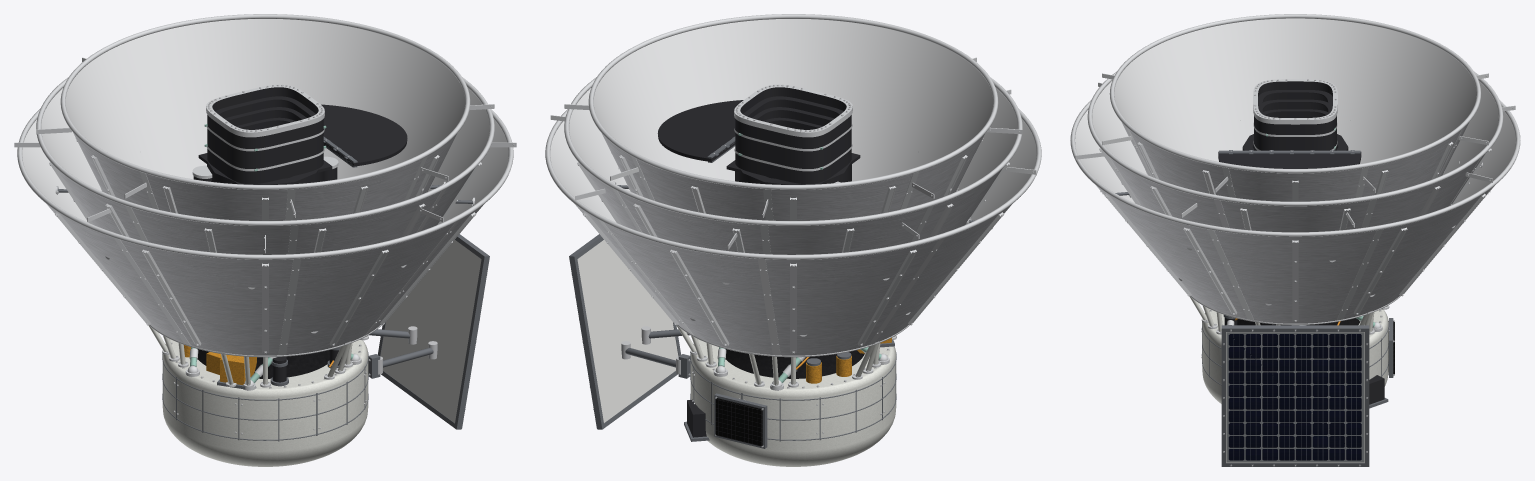
The model's file is spherex.glb.
3 renders of one model, left to right at view 1: azimuth 30°, elevation 25°; view 2: azimuth 150°, elevation 25°; view 3: azimuth 270°, elevation 25°, orthographic. The views are drawn at different scales.
Parts seen in each view (by area): view 1: PhotonShield_1_Inner_InnerSurface, PhotonShield_3_Outer_OuterSurface, BusStructure_Shell, PhotonShield_1_Inner_OuterSurface, PhotonShield_2_Middle_OuterSurface, SolarArray_Substrate, Telescope_BaffleHousing, PhotonShield_1_Inner_RolledRims, PhotonShield_2_Middle_InnerSurface, PhotonShield_3_Outer_RolledRims, PhotonShield_3_Outer_InnerSurface, Telescope_TopShadePlate (+16 smaller); view 2: PhotonShield_1_Inner_InnerSurface, PhotonShield_3_Outer_OuterSurface, BusStructure_Shell, PhotonShield_2_Middle_OuterSurface, PhotonShield_1_Inner_OuterSurface, SolarArray_Substrate, Telescope_BaffleHousing, PhotonShield_1_Inner_RolledRims, PhotonShield_2_Middle_InnerSurface, PhotonShield_3_Outer_RolledRims, PhotonShield_3_Outer_InnerSurface, PhotonShield_2_Middle_RolledRims (+19 smaller); view 3: PhotonShield_1_Inner_InnerSurface, PhotonShield_3_Outer_OuterSurface, SolarArray_PhotovoltaicCells, PhotonShield_2_Middle_OuterSurface, PhotonShield_1_Inner_OuterSurface, Telescope_BaffleHousing, PhotonShield_1_Inner_RolledRims, PhotonShield_2_Middle_InnerSurface, PhotonShield_3_Outer_RolledRims, PhotonShield_3_Outer_InnerSurface, PhotonShield_2_Middle_RolledRims, PhotonShield_3_Outer_StiffeningRibs (+14 smaller).
Part boxes in pixels (x1=…): PhotonShield_1_Inner_InnerSurface: x1=65, y1=19, x2=465, y2=179; PhotonShield_3_Outer_OuterSurface: x1=47, y1=204, x2=483, y2=355; BusStructure_Shell: x1=162, y1=339, x2=368, y2=466; PhotonShield_1_Inner_OuterSurface: x1=74, y1=134, x2=456, y2=220; PhotonShield_2_Middle_OuterSurface: x1=56, y1=168, x2=474, y2=254; SolarArray_Substrate: x1=380, y1=240, x2=481, y2=422; Telescope_BaffleHousing: x1=198, y1=87, x2=332, y2=184; PhotonShield_1_Inner_RolledRims: x1=60, y1=14, x2=470, y2=189; PhotonShield_2_Middle_InnerSurface: x1=41, y1=88, x2=489, y2=191; PhotonShield_3_Outer_RolledRims: x1=17, y1=108, x2=513, y2=357; PhotonShield_3_Outer_InnerSurface: x1=22, y1=119, x2=508, y2=222; Telescope_TopShadePlate: x1=321, y1=104, x2=407, y2=166; PhotonShield_1_Inner_InnerSurface: x1=593, y1=19, x2=993, y2=181; PhotonShield_3_Outer_OuterSurface: x1=575, y1=204, x2=1011, y2=355; BusStructure_Shell: x1=690, y1=339, x2=896, y2=466; PhotonShield_2_Middle_OuterSurface: x1=584, y1=168, x2=1002, y2=254; PhotonShield_1_Inner_OuterSurface: x1=602, y1=134, x2=984, y2=220; SolarArray_Substrate: x1=577, y1=240, x2=678, y2=422; Telescope_BaffleHousing: x1=726, y1=87, x2=860, y2=184; PhotonShield_1_Inner_RolledRims: x1=588, y1=14, x2=998, y2=189; PhotonShield_2_Middle_InnerSurface: x1=569, y1=88, x2=1017, y2=191; PhotonShield_3_Outer_RolledRims: x1=545, y1=108, x2=1041, y2=357; PhotonShield_3_Outer_InnerSurface: x1=550, y1=119, x2=1036, y2=222; PhotonShield_2_Middle_RolledRims: x1=564, y1=77, x2=1022, y2=225; PhotonShield_1_Inner_InnerSurface: x1=1114, y1=18, x2=1476, y2=163; PhotonShield_3_Outer_OuterSurface: x1=1098, y1=187, x2=1492, y2=323; SolarArray_PhotovoltaicCells: x1=1226, y1=332, x2=1364, y2=462; PhotonShield_2_Middle_OuterSurface: x1=1105, y1=153, x2=1485, y2=232; PhotonShield_1_Inner_OuterSurface: x1=1122, y1=123, x2=1468, y2=201; Telescope_BaffleHousing: x1=1254, y1=81, x2=1336, y2=150; PhotonShield_1_Inner_RolledRims: x1=1109, y1=14, x2=1481, y2=173; PhotonShield_2_Middle_InnerSurface: x1=1092, y1=81, x2=1498, y2=174; PhotonShield_3_Outer_RolledRims: x1=1070, y1=100, x2=1520, y2=325; PhotonShield_3_Outer_InnerSurface: x1=1075, y1=110, x2=1515, y2=202; PhotonShield_2_Middle_RolledRims: x1=1087, y1=71, x2=1503, y2=206; PhotonShield_3_Outer_StiffeningRibs: x1=1104, y1=193, x2=1486, y2=321.
Size of the model in its own units: 3.14 by 2.38 by 3.14.
14 materials, 6 textured.
